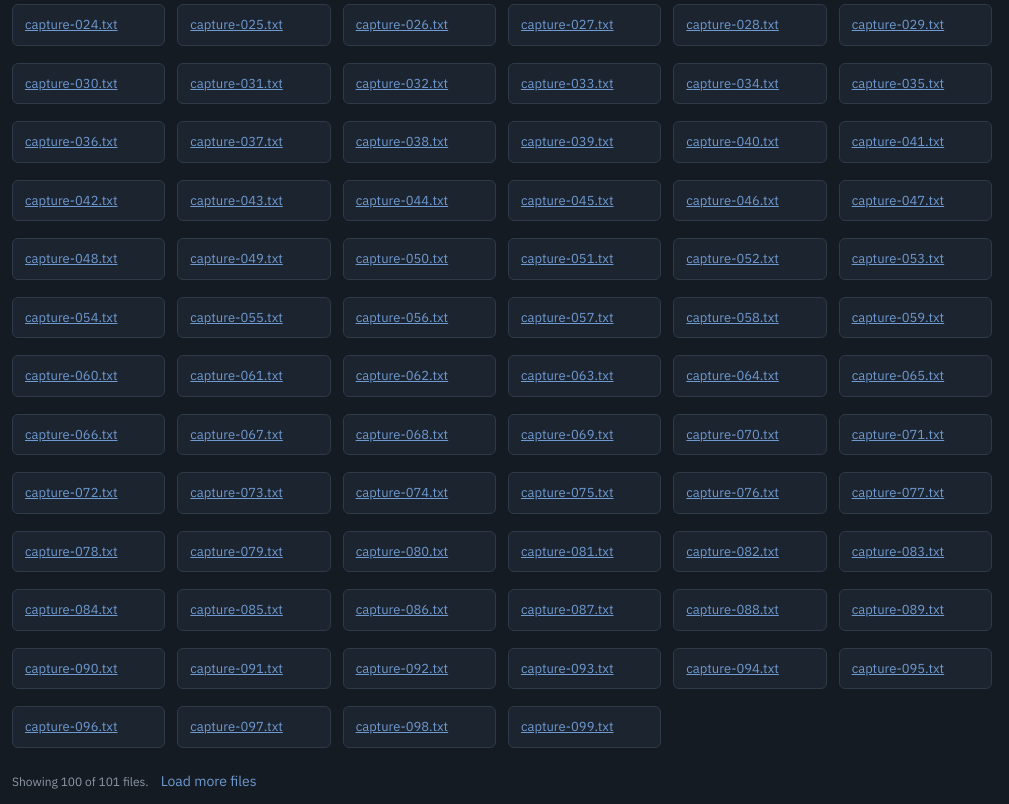
Test case: Evidence › reloads page one when files are added between pages
(page scrolled)
Check: the text "Showing 100 of 101 files." is shown, box [12, 772, 149, 790]
Click the button "Load more files" at (209, 782), box [161, 760, 257, 803]
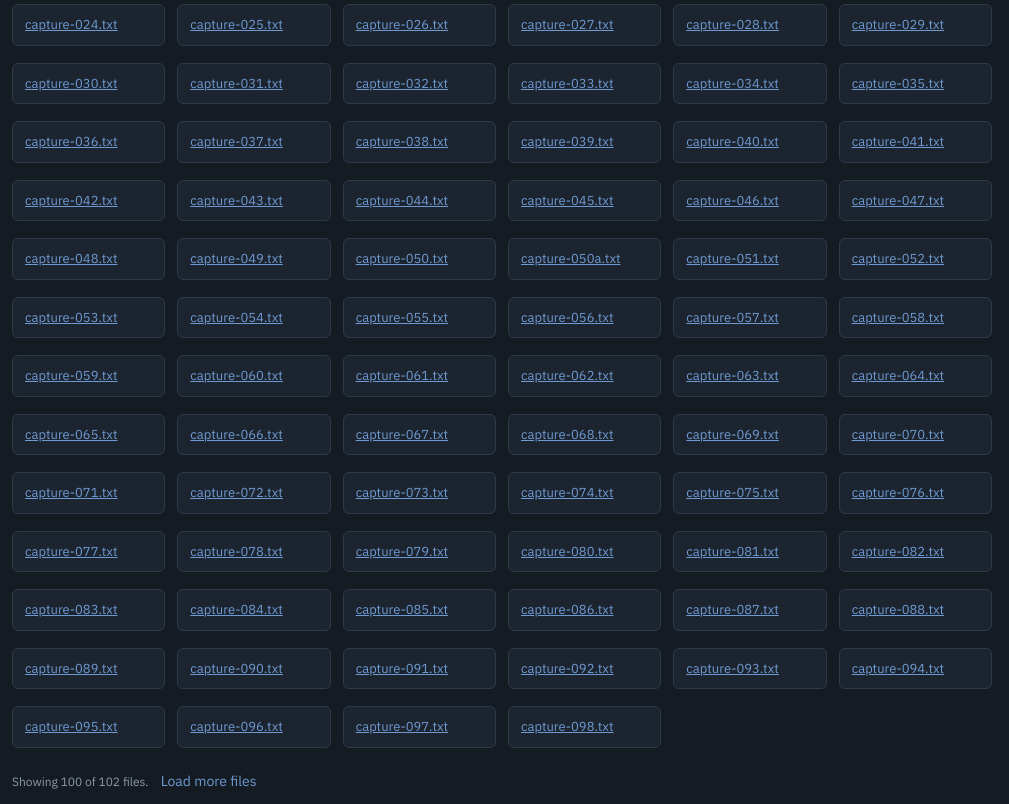
Check: the link "capture-050a.txt" is shown, box [521, 250, 621, 267]
Check: the message reads "Showing 100 of 102 files.", box [12, 772, 149, 790]
Click the button "Load more files" at (209, 782), box [161, 760, 257, 803]
(page scrolled)
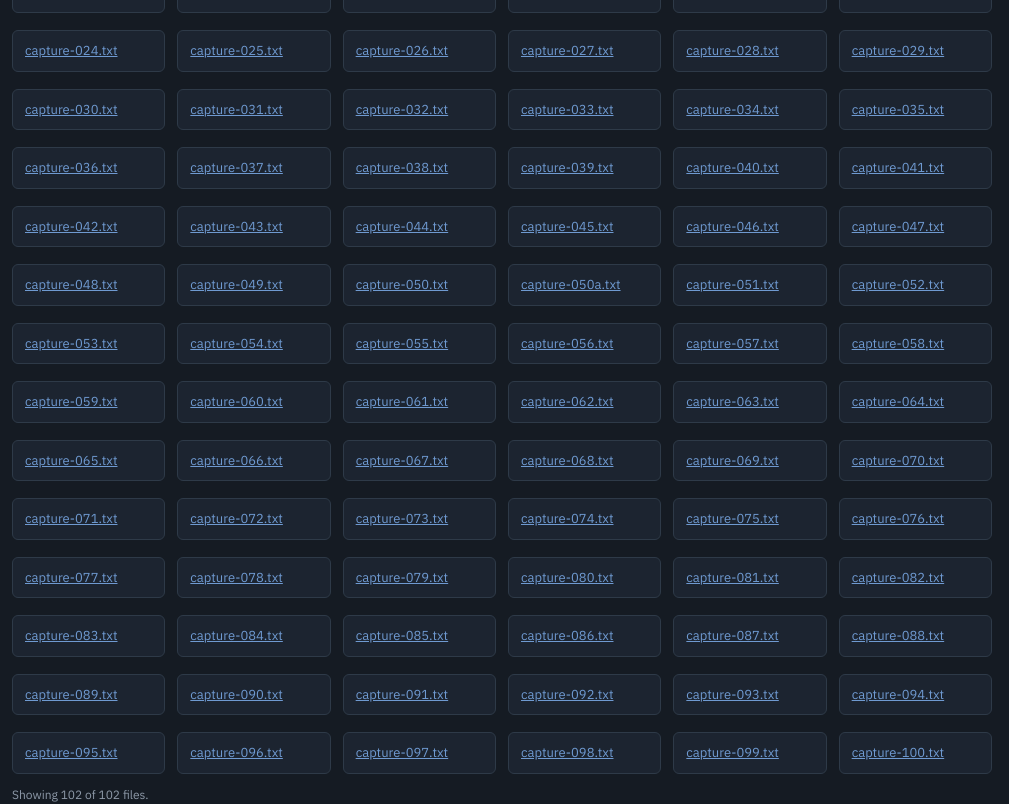
Check: the text "Showing 102 of 102 files." is shown, box [12, 786, 149, 803]
